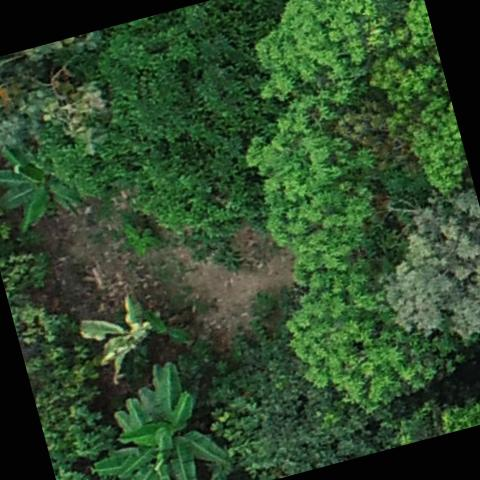Banana-plant: (109, 349, 237, 480), (57, 280, 184, 390), (0, 126, 94, 244), (78, 416, 192, 480)
